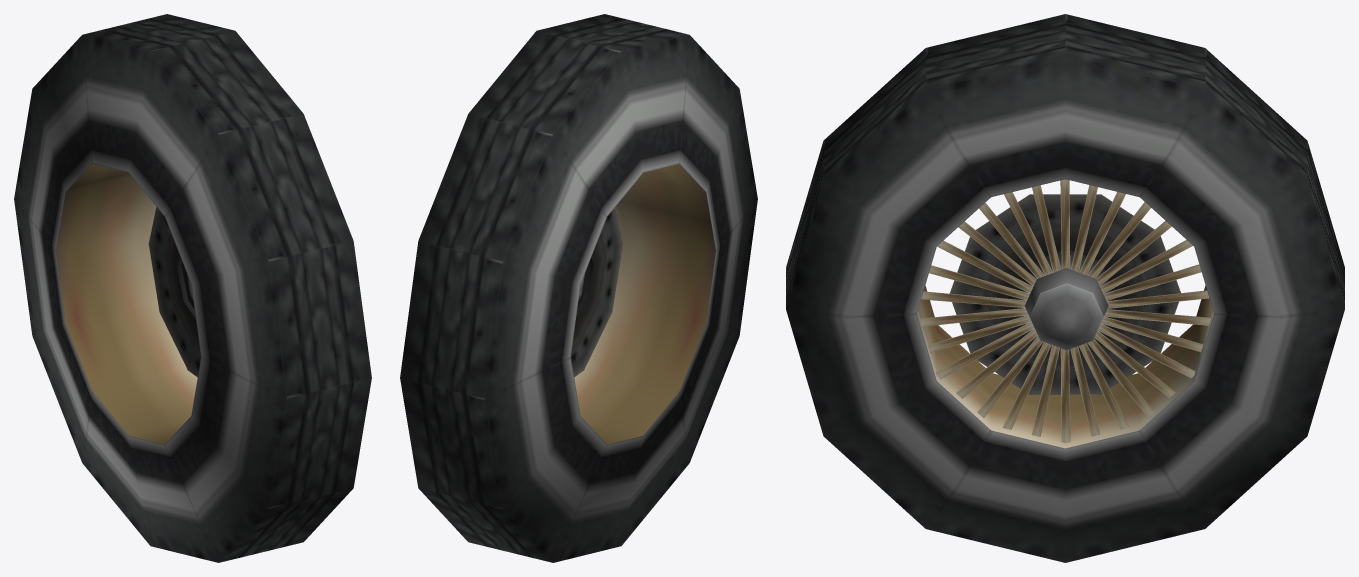
Rendered from wheel_lr4.glb.
3 renders of one model, left to right at view 1: azimuth 30°, elevation 25°; view 2: azimuth 150°, elevation 25°; view 3: azimuth 270°, elevation 25°, orthographic. The views are drawn at different scales.
Visible parts, largest first — view 1: wheel_lr4; view 2: wheel_lr4; view 3: wheel_lr4.
Part boxes in pixels (box(x1,y1,x2,y2)): wheel_lr4: box(14, 14, 371, 562); wheel_lr4: box(400, 14, 757, 562); wheel_lr4: box(786, 14, 1344, 562).
Size of the model in its own units: 0.2921 by 0.9843 by 0.9843.
2 materials, 2 textured.
